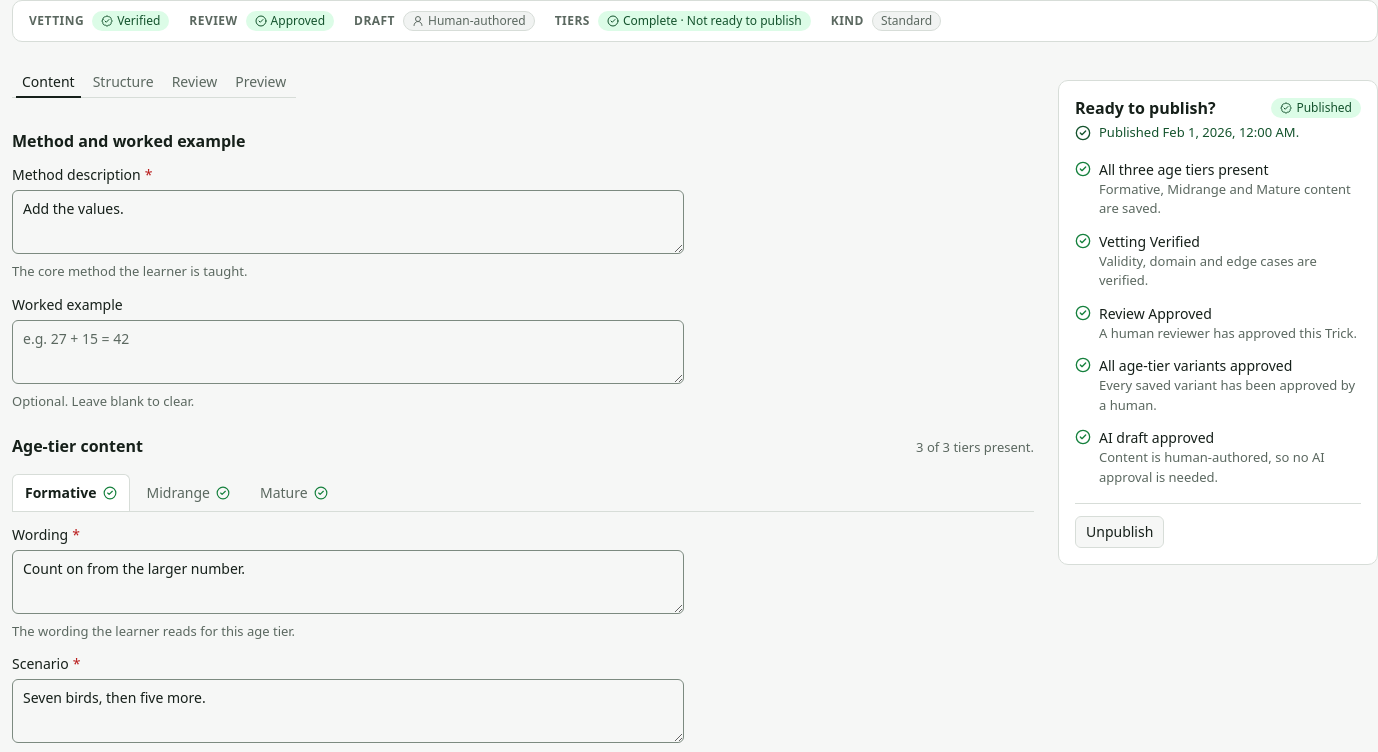
Test: Trick publication flow › unpublishes a published Trick and reflects the cleared state
Click the button "Unpublish": (1120, 532) [1075, 516, 1164, 548]
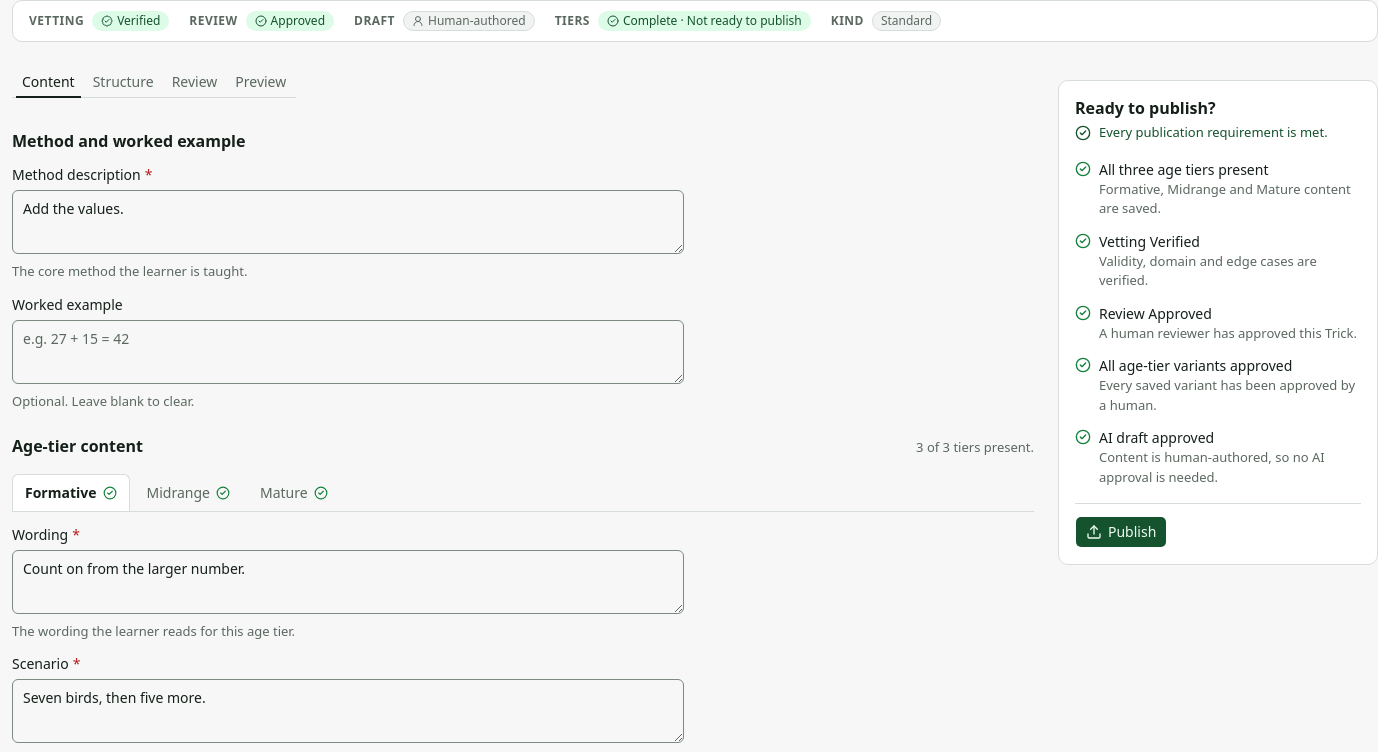
Check: the text "Every publication requirement is met." is shown, box [1075, 123, 1361, 143]
